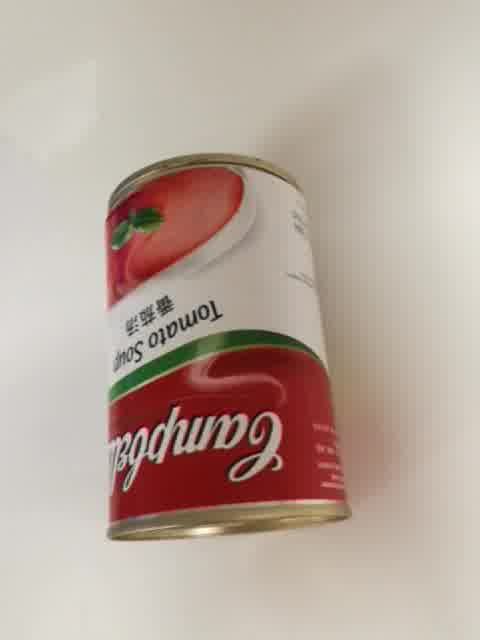tomatosoup: (103, 150, 356, 544)
